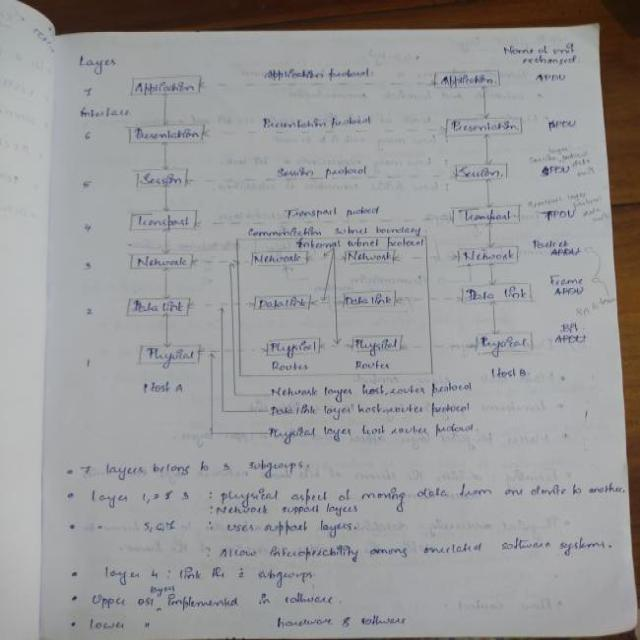Figure Detection - v3 Dataset Version2: (63, 36, 596, 454)
